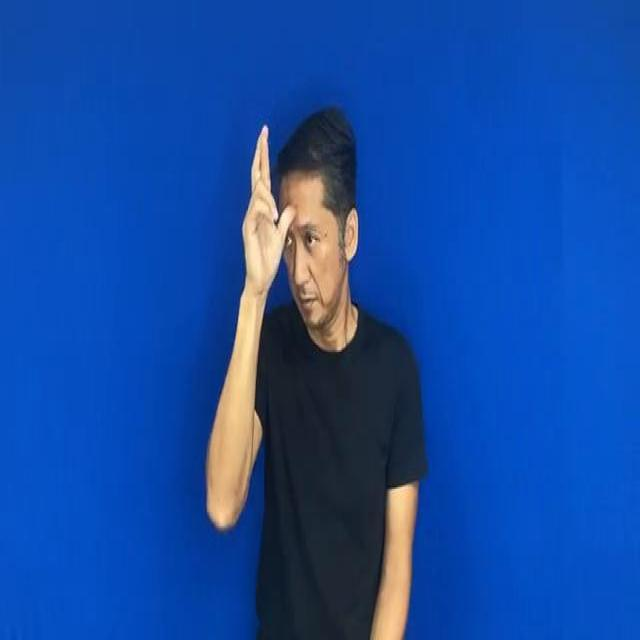chicken: (235, 118, 295, 297)
